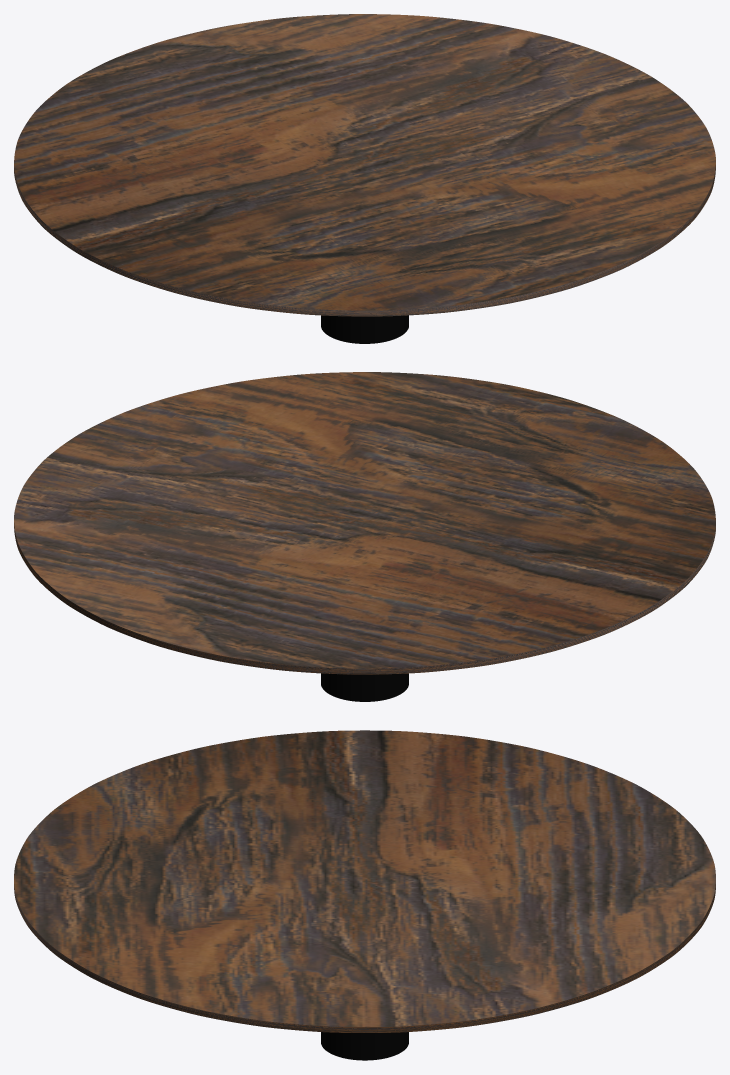
The model's file is table.glb.
3 views of the same model, one above another, from view 1: azimuth 30°, elevation 25°; view 2: azimuth 150°, elevation 25°; view 3: azimuth 270°, elevation 25° (orthographic).
Parts seen in each view (by area): view 1: Tischplatte, Fuß; view 2: Tischplatte, Fuß; view 3: Tischplatte, Fuß.
Part boxes in pixels (x1,y1,x2,y2): Tischplatte: (14,14,715,316); Fuß: (321,315,408,343); Tischplatte: (14,372,715,674); Fuß: (321,673,408,701); Tischplatte: (14,730,715,1032); Fuß: (321,1032,408,1060).
Bounding box in the file's own units: 3.18 × 0.815 × 3.18.
Materials: 2 (2 with a texture image).
